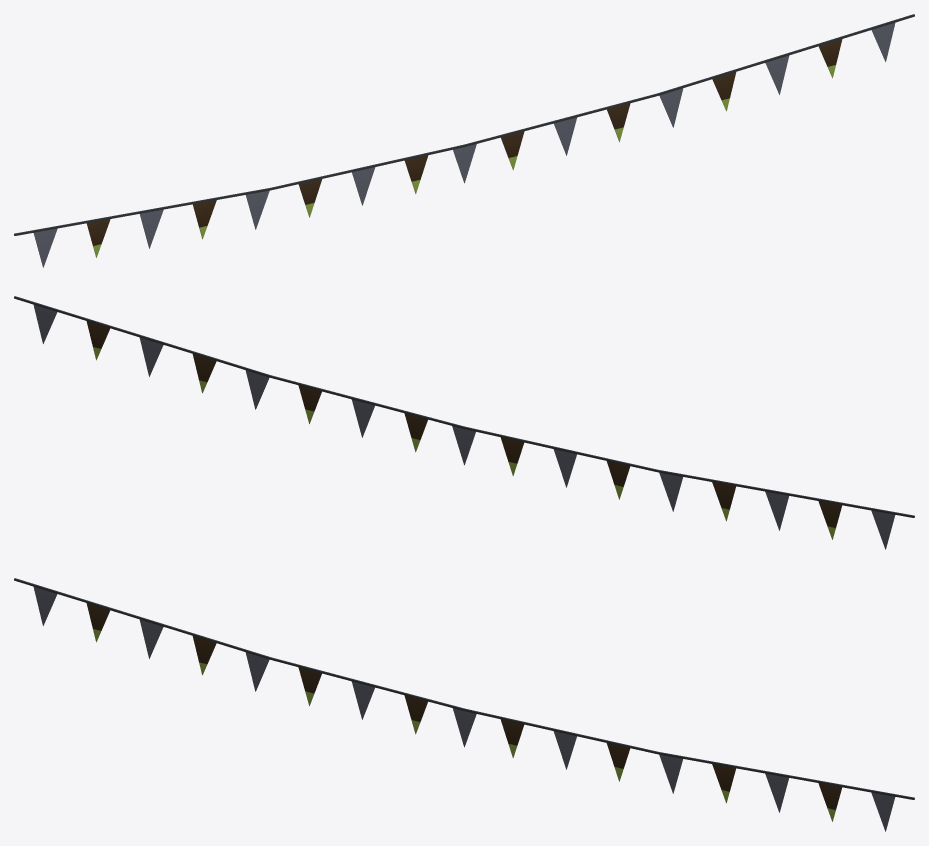
Rendered from Flags_01.fbx.
The picture shows the model from 3 angles, top to bottom: view 1: azimuth 30°, elevation 25°; view 2: azimuth 150°, elevation 25°; view 3: azimuth 330°, elevation 25°; orthographic projection.
Parts seen in each view (by area): view 1: Flags_01; view 2: Flags_01; view 3: Flags_01.
Part boxes in pixels (left/top/right/bottom): Flags_01: left=14, top=14, right=914, bottom=267; Flags_01: left=14, top=296, right=914, bottom=549; Flags_01: left=14, top=578, right=914, bottom=831.
Bounding box in the file's own units: 7.98 × 0.5015 × 0.015.
